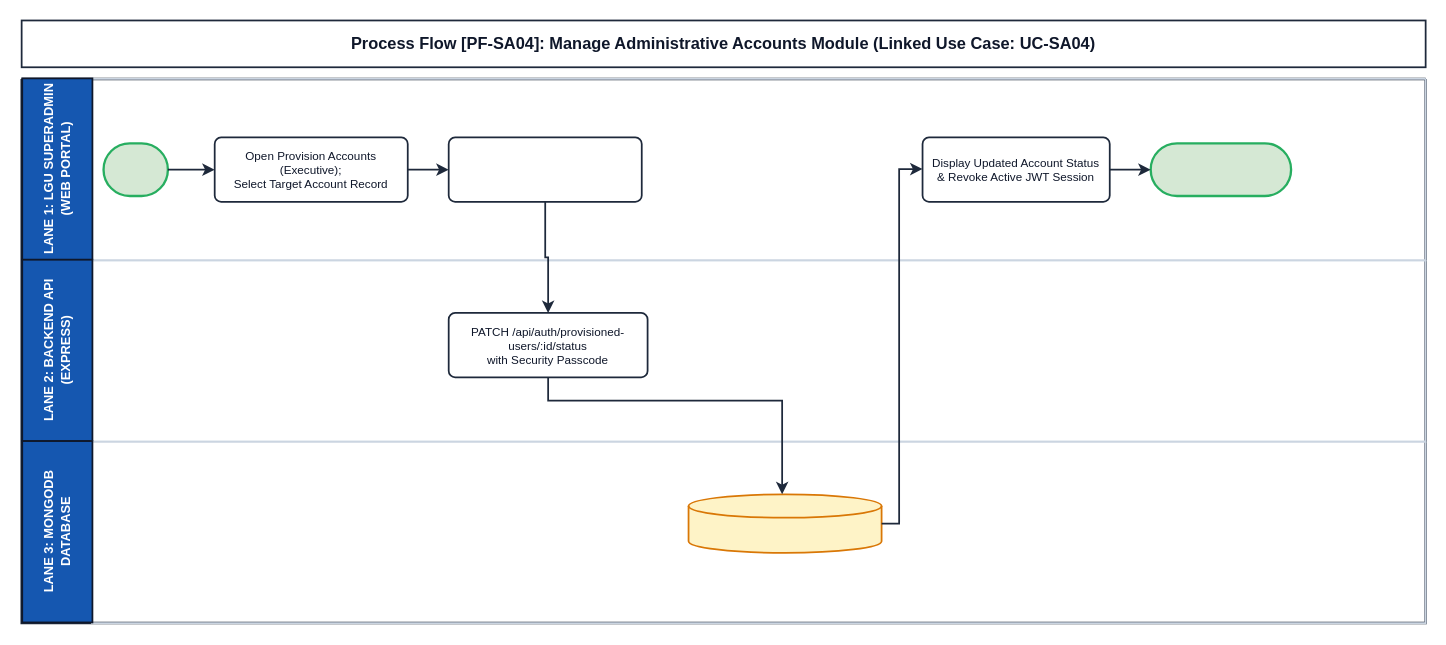
This 1446x645 diagram has some shape labels left out. Each missing label, with the centre of its shape:
END (Synchronized): [1220,169]
Execute Action: Deactivate, Reactivate, or Reset Personnel Password: [544,169]
MongoDB: Update User.status & Record Action in AuditLog: [784,523]
START: [135,169]
